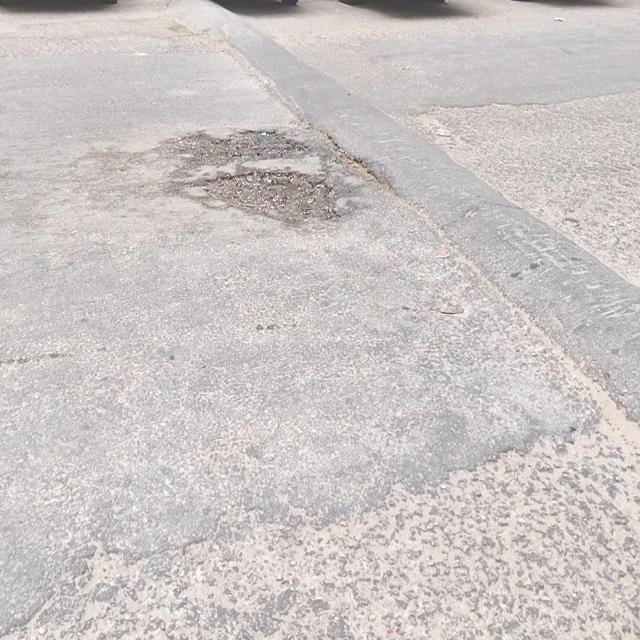Potholes: (185, 125, 333, 232)
